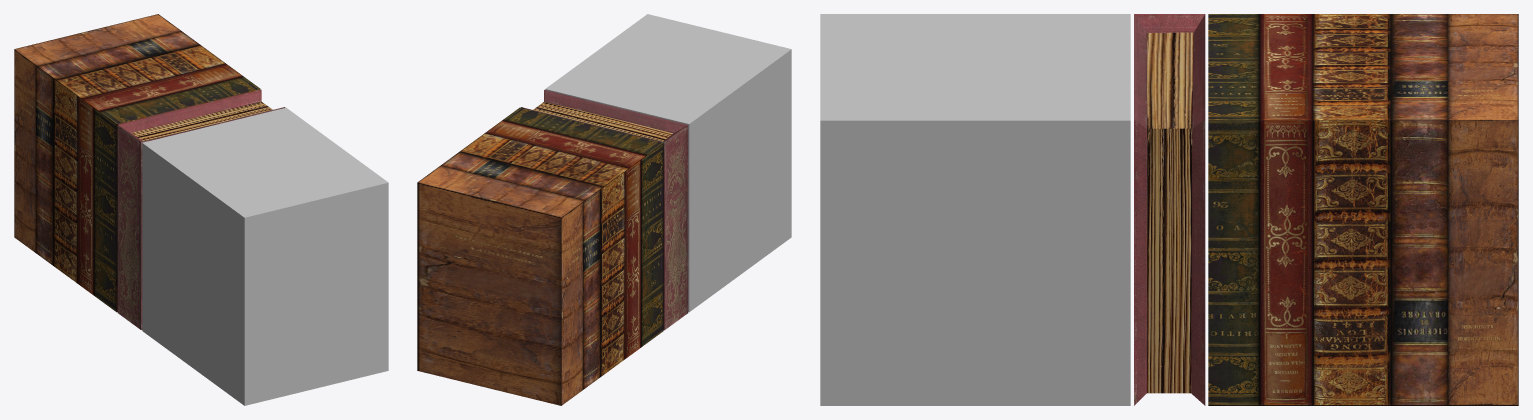
The model's file is HidenHandBook.dae.
3 renders of one model, left to right at view 1: azimuth 30°, elevation 25°; view 2: azimuth 150°, elevation 25°; view 3: azimuth 270°, elevation 25°, orthographic. The views are drawn at different scales.
Parts seen in each view (by area): view 1: Books.001, Books, BookHand; view 2: Books, Books.001, BookHand; view 3: Books.001, Books, BookHand.
Boxes of the visible parts, bbox=[...] form: Books.001: bbox=[142, 107, 388, 405]; Books: bbox=[14, 14, 260, 312]; BookHand: bbox=[117, 89, 285, 329]; Books: bbox=[417, 107, 663, 405]; Books.001: bbox=[545, 14, 791, 312]; BookHand: bbox=[520, 90, 688, 330]; Books.001: bbox=[820, 14, 1130, 405]; Books: bbox=[1208, 14, 1518, 405]; BookHand: bbox=[1134, 14, 1205, 405].
Size of the model in its own units: 0.8025 by 2.22 by 1.
